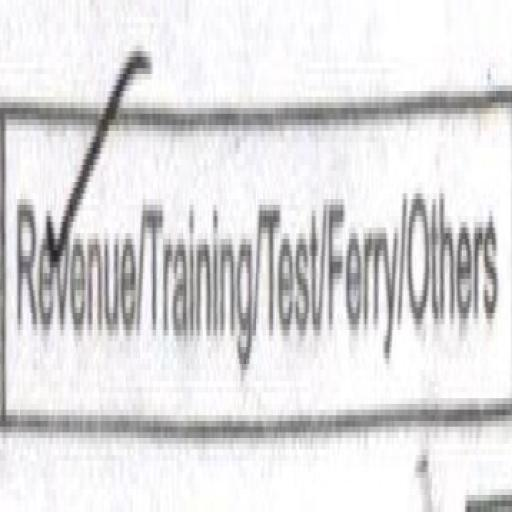check: (0, 16, 146, 436)
